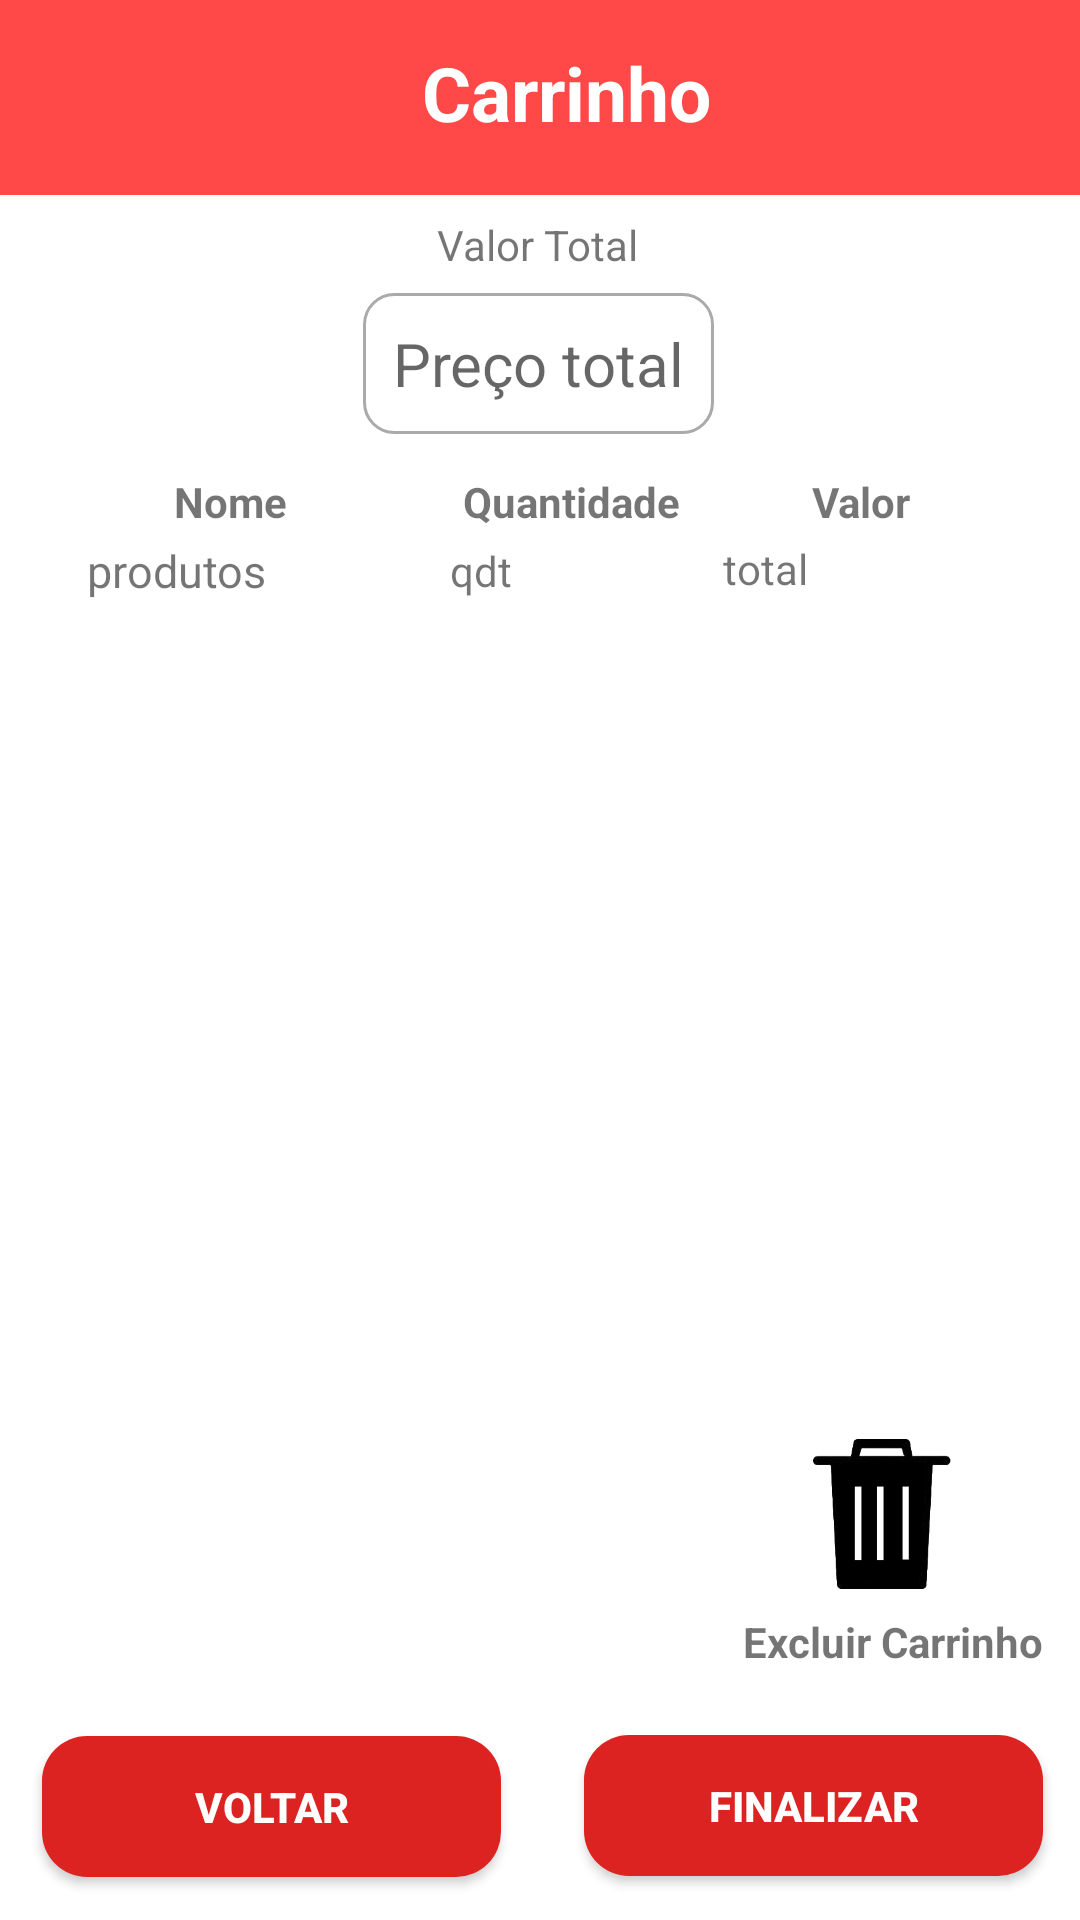

Where to tap for icons on this 1080x1920 app screen, as (x=x, y=y):
lixo: (x=882, y=1514)
